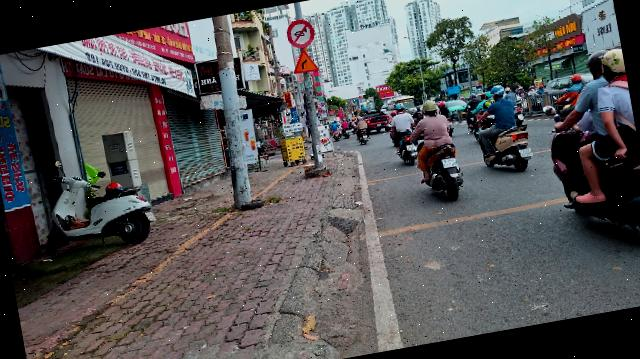cam-bop-coi: (284, 16, 316, 49)
cho-ngoat-nguy-hiem-ben-trai: (290, 46, 320, 74)
